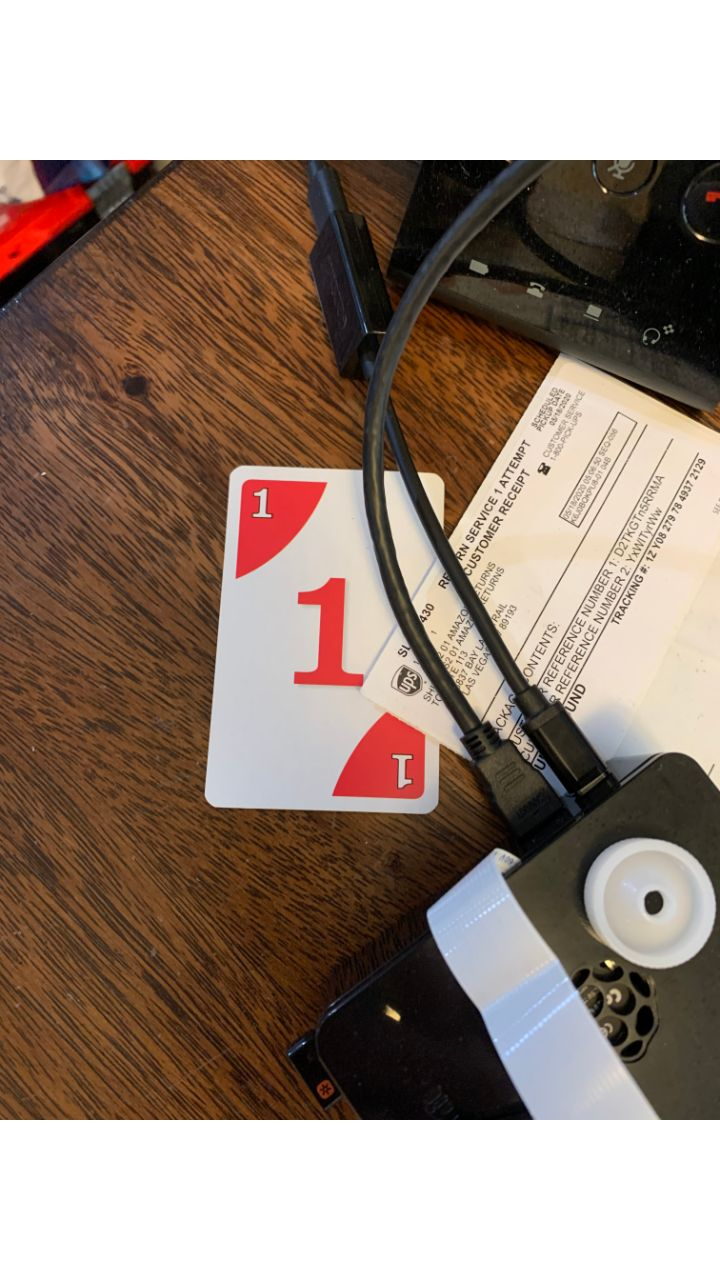one: (197, 463, 458, 818)
